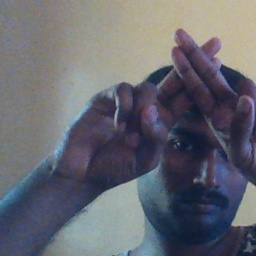F: (129, 17, 252, 153)
